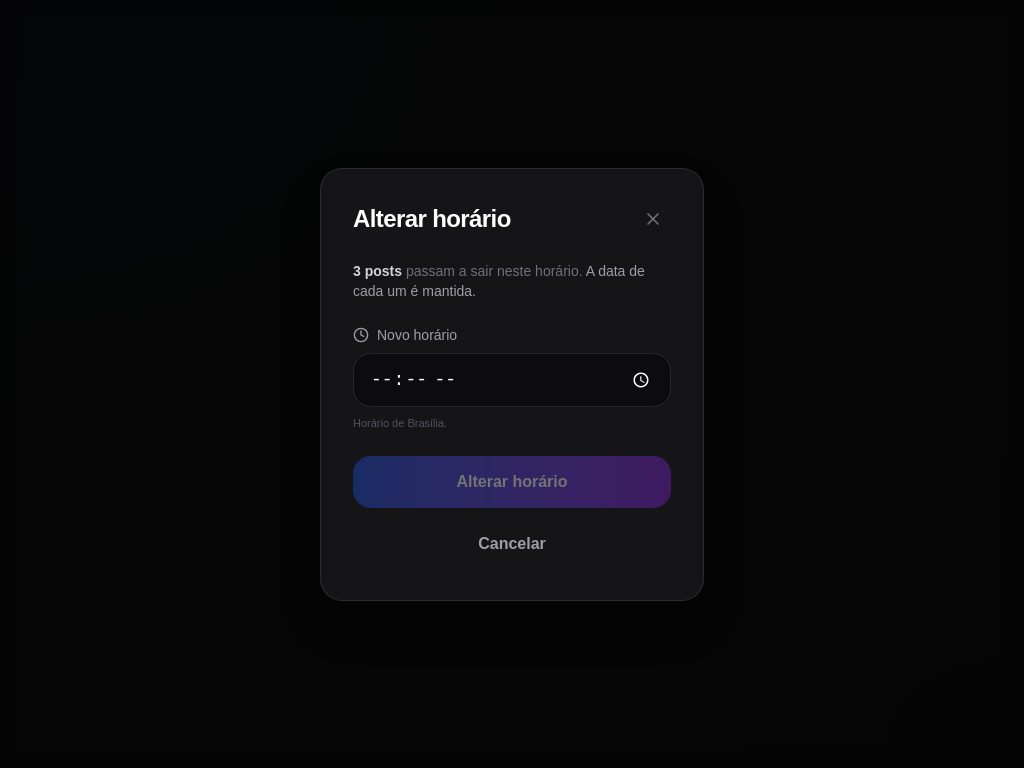
Test: BulkRescheduleModal › libera com um horário válido
The image size is (1024, 768).
Type "18:30" into the time field labelled "Novo horário" at (512, 380), box [353,353,671,407]
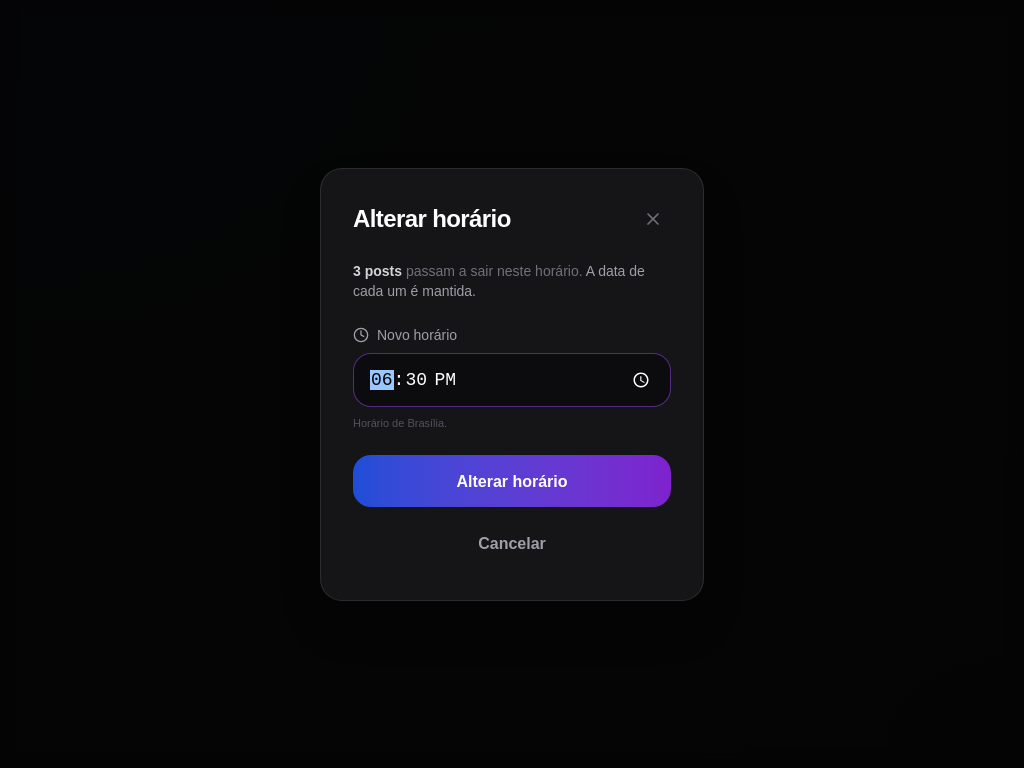
Result: the button "Alterar horário" is enabled at [353,455,671,507]
